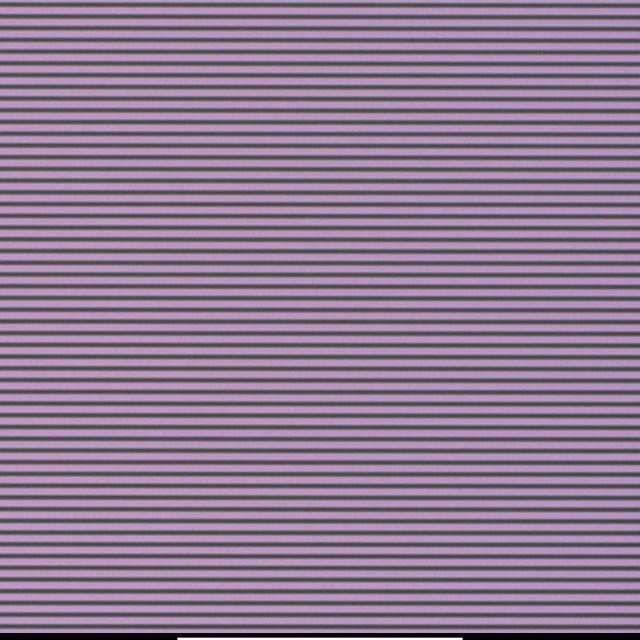nonvisual: (324, 321, 330, 328)
